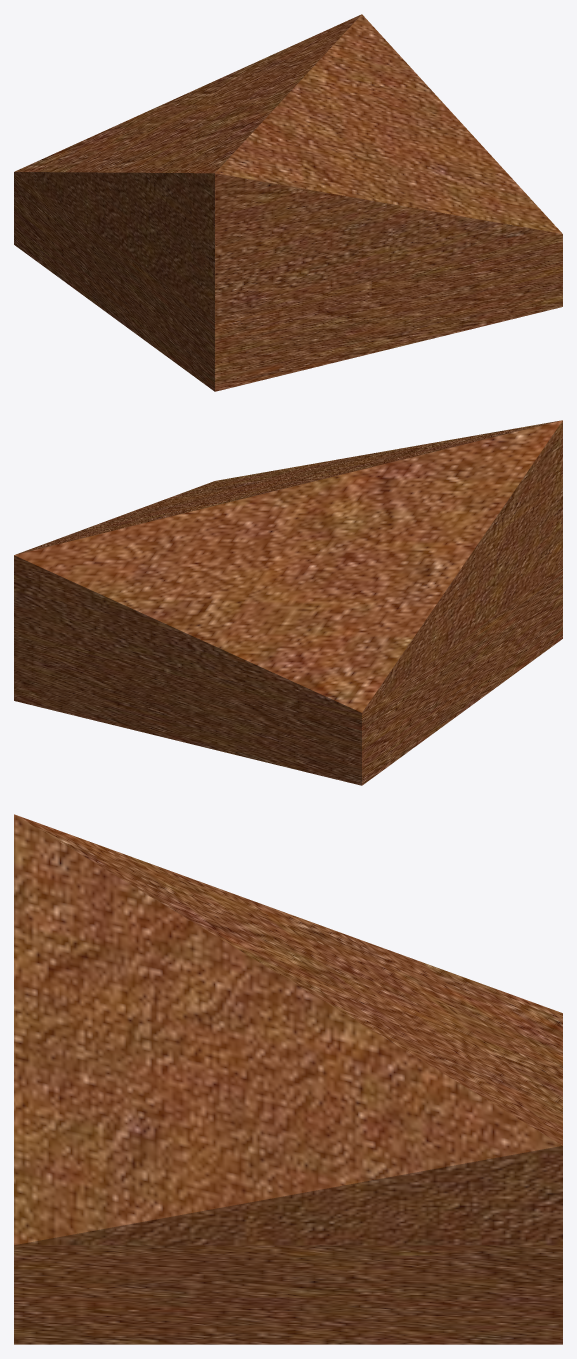
The model's file is Map0102.fbx.
The picture shows the model from 3 angles, top to bottom: view 1: azimuth 30°, elevation 25°; view 2: azimuth 150°, elevation 25°; view 3: azimuth 270°, elevation 25°; orthographic projection. The views are drawn at different scales.
Parts seen in each view (by area): view 1: Map0102, Map0000; view 2: Map0102, Map0000; view 3: Map0102, Map0000.
Part boxes in pixels (x1,y1,x2,y2): Map0102: (14, 14, 562, 318); Map0000: (14, 172, 562, 391); Map0102: (14, 420, 562, 712); Map0000: (14, 566, 562, 785); Map0102: (14, 814, 562, 1245); Map0000: (14, 1245, 562, 1344).
Bounding box in the file's own units: 200 × 120 × 200.
2 materials, 2 textured.
